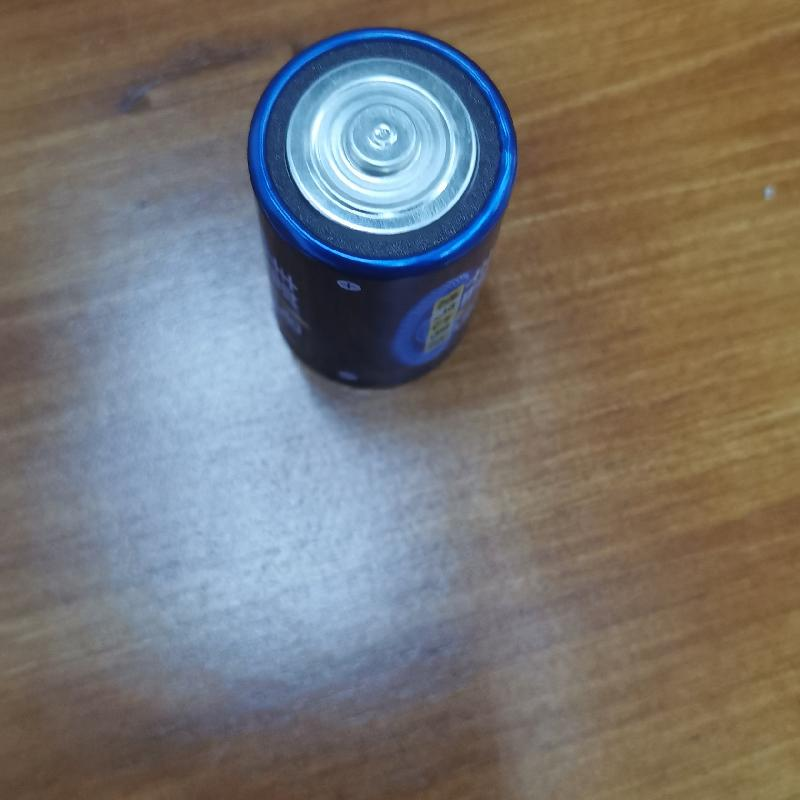battery: (239, 24, 521, 393)
